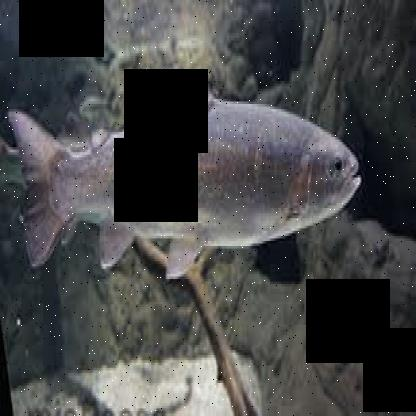fish: (6, 66, 362, 276)
